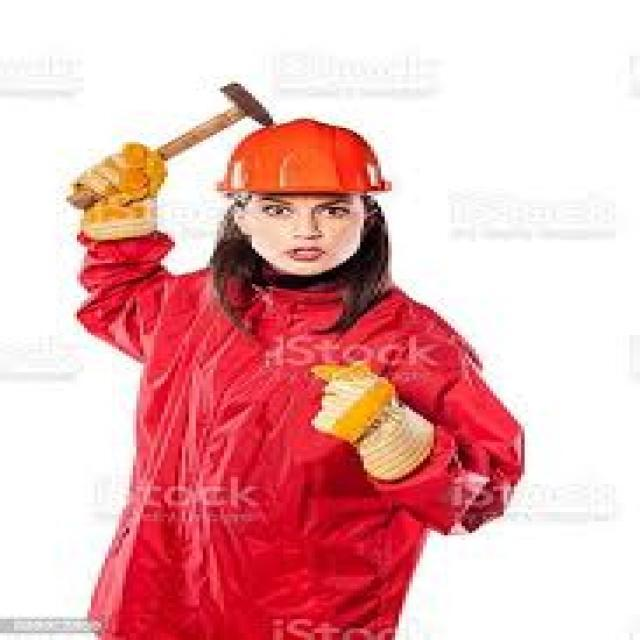hammer: (57, 66, 296, 213)
